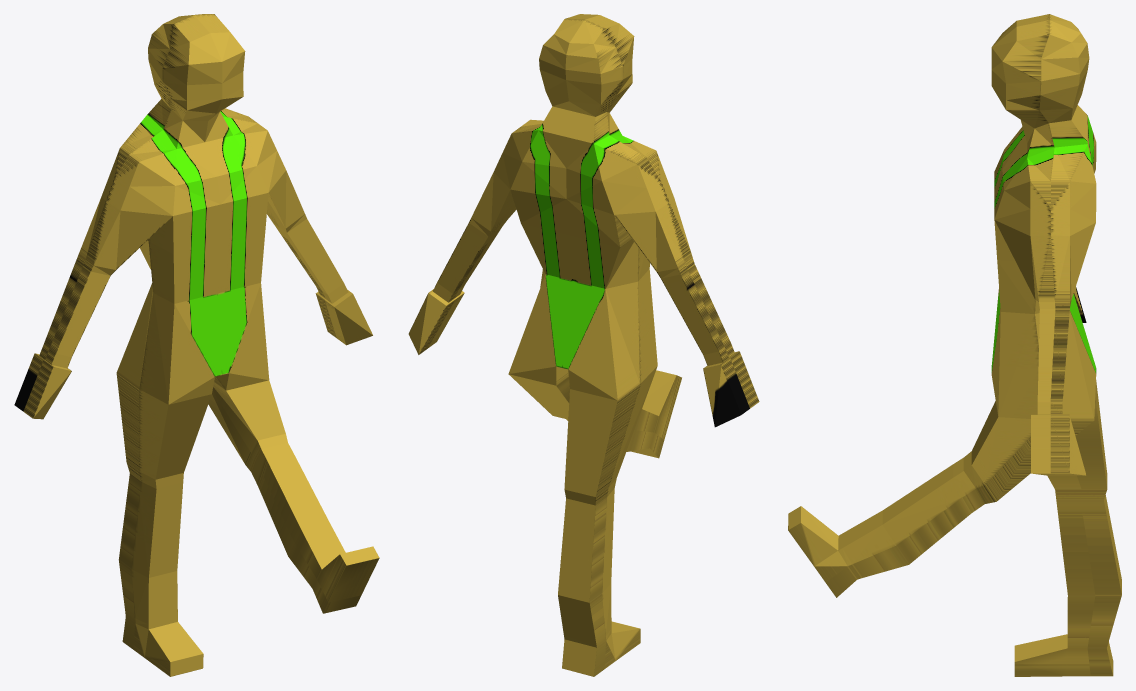
3 renders of one model, left to right at view 1: azimuth 30°, elevation 25°; view 2: azimuth 150°, elevation 25°; view 3: azimuth 270°, elevation 25°, orthographic. The views are drawn at different scales.
Visible parts, largest first — view 1: Borat; view 2: Borat; view 3: Borat.
Part boxes in pixels (bbox=[...]): Borat: bbox=[14, 14, 379, 676]; Borat: bbox=[408, 14, 759, 676]; Borat: bbox=[788, 14, 1121, 676].
Bounding box in the file's own units: 1.79 × 3.21 × 1.47.
